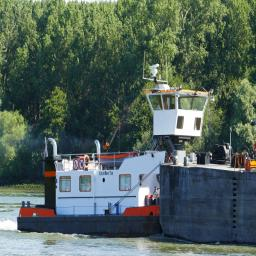tugboat: (16, 51, 242, 245)
